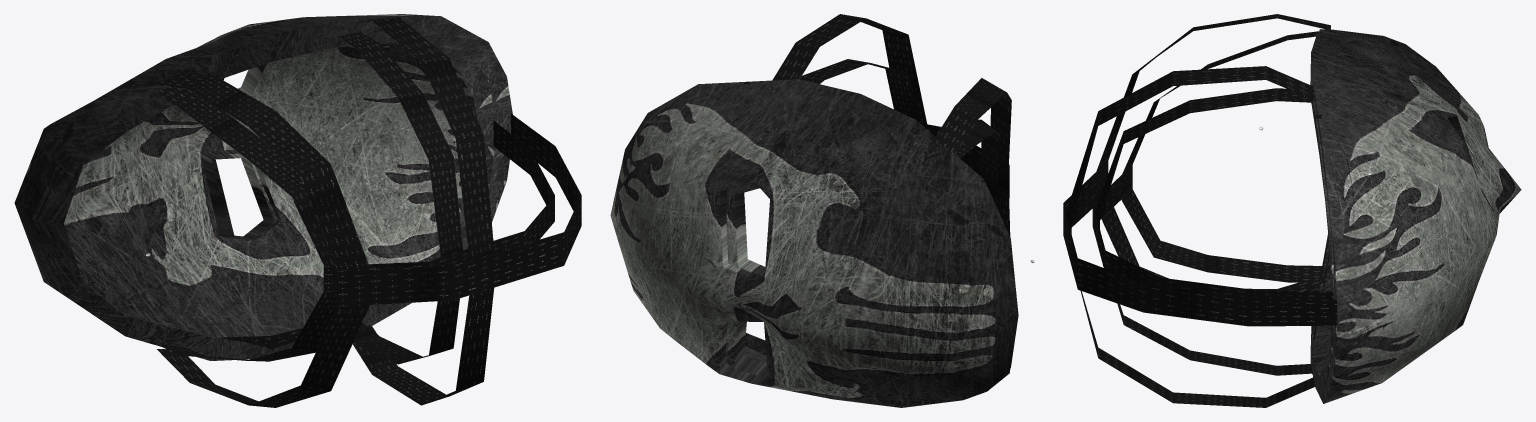
Rendered from tacticalmask_female.fbx.
3 views of the same model, side by side, from view 1: azimuth 30°, elevation 25°; view 2: azimuth 150°, elevation 25°; view 3: azimuth 270°, elevation 25° (orthographic). The views are drawn at different scales.
Parts seen in each view (by area): view 1: F_TacticalMask, M_TacticalMask; view 2: M_TacticalMask, F_TacticalMask; view 3: M_TacticalMask, F_TacticalMask.
Part boxes in pixels (x1,y1,x2,y2): F_TacticalMask: [36, 27, 554, 364]; M_TacticalMask: [14, 14, 581, 407]; M_TacticalMask: [610, 14, 1017, 407]; F_TacticalMask: [726, 59, 1018, 377]; M_TacticalMask: [1063, 14, 1521, 407]; F_TacticalMask: [1092, 31, 1334, 390].
Size of the model in its own units: 0.172 by 0.1273 by 0.1594.
